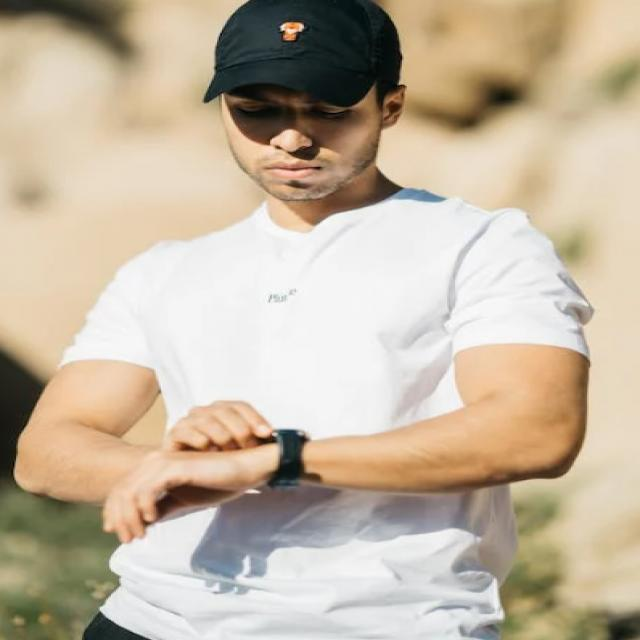Watch: (266, 421, 310, 501)
